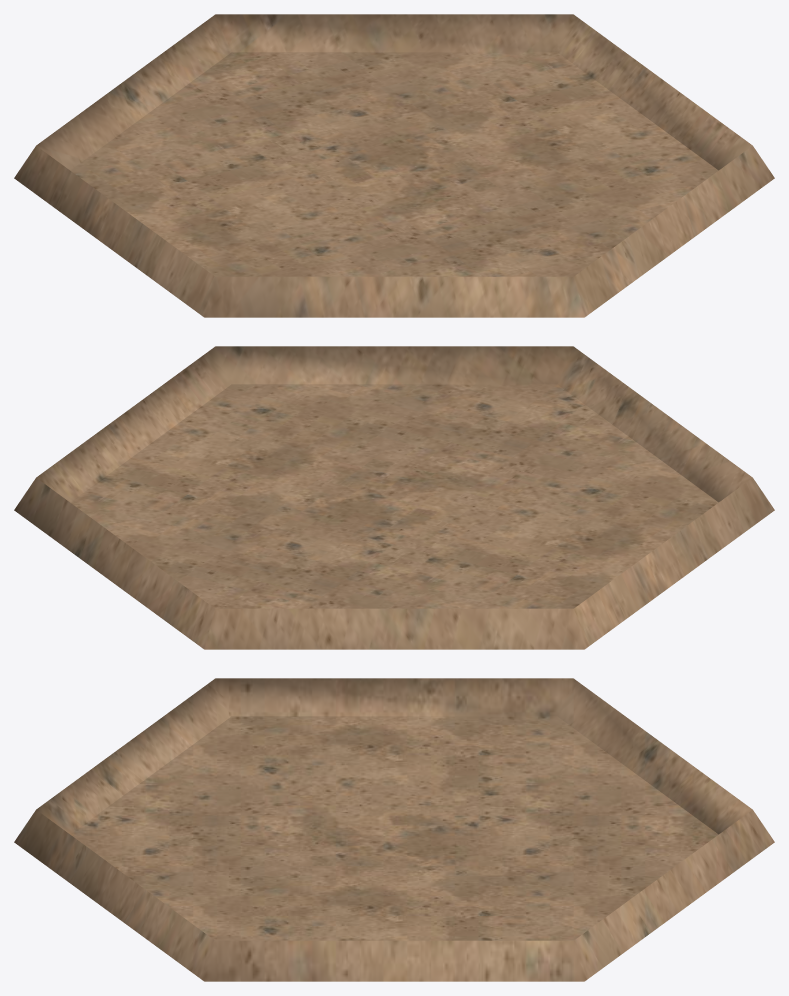
The model's file is dirt.glb.
3 views of the same model, one above another, from view 1: azimuth 30°, elevation 25°; view 2: azimuth 150°, elevation 25°; view 3: azimuth 270°, elevation 25° (orthographic).
Parts seen in each view (by area): view 1: HexagonTile.008; view 2: HexagonTile.008; view 3: HexagonTile.008.
Part boxes in pixels (x1,y1,x2,y2): HexagonTile.008: (14, 14, 774, 317); HexagonTile.008: (14, 346, 774, 649); HexagonTile.008: (14, 678, 774, 981).
Bounding box in the file's own units: 1.73 × 0.0947 × 2.
Materials: 1 (1 with a texture image).
